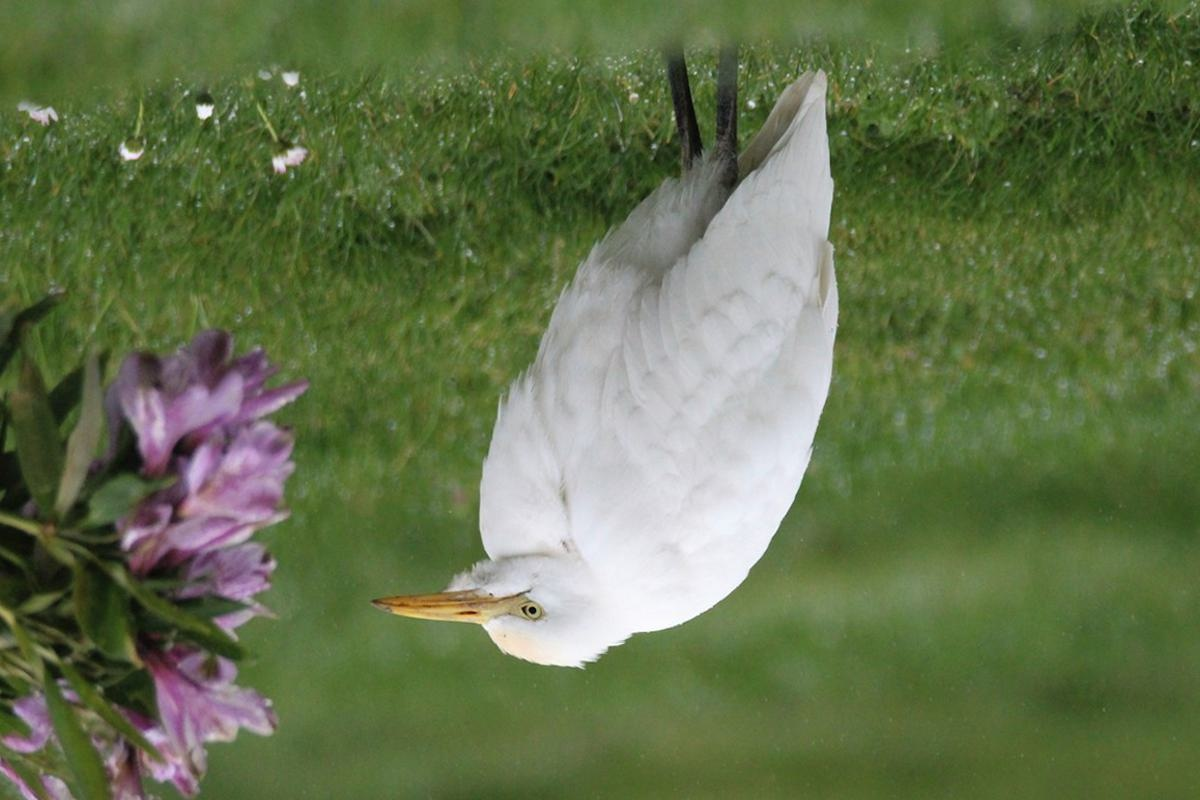egret: (370, 54, 868, 665)
